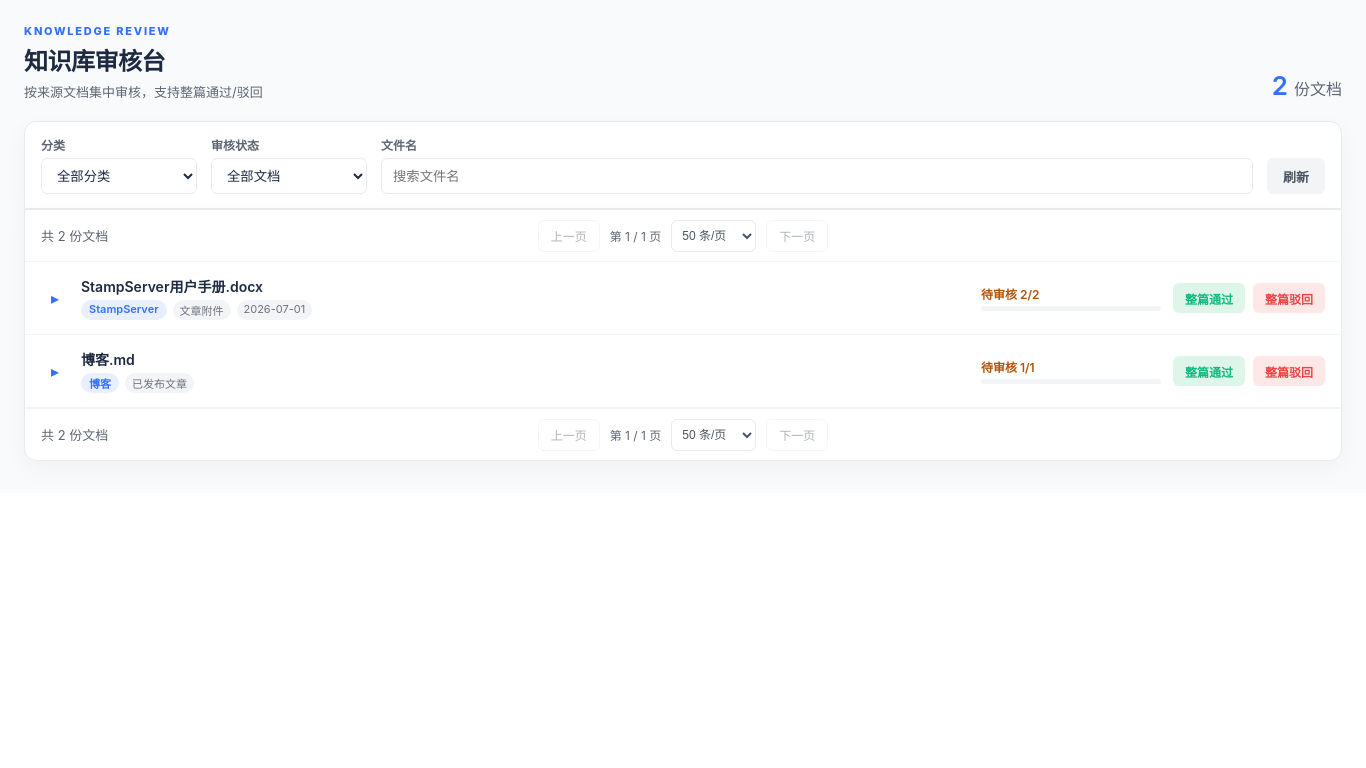
Test case: AdminChunksView › expands a document row and shows its chunks
// Click expand button on first doc row
Step 1. Click the element with class "doc-row" that starts with "StampServer用户手册.docx" → click(172, 286), box [51,278,1325,320]
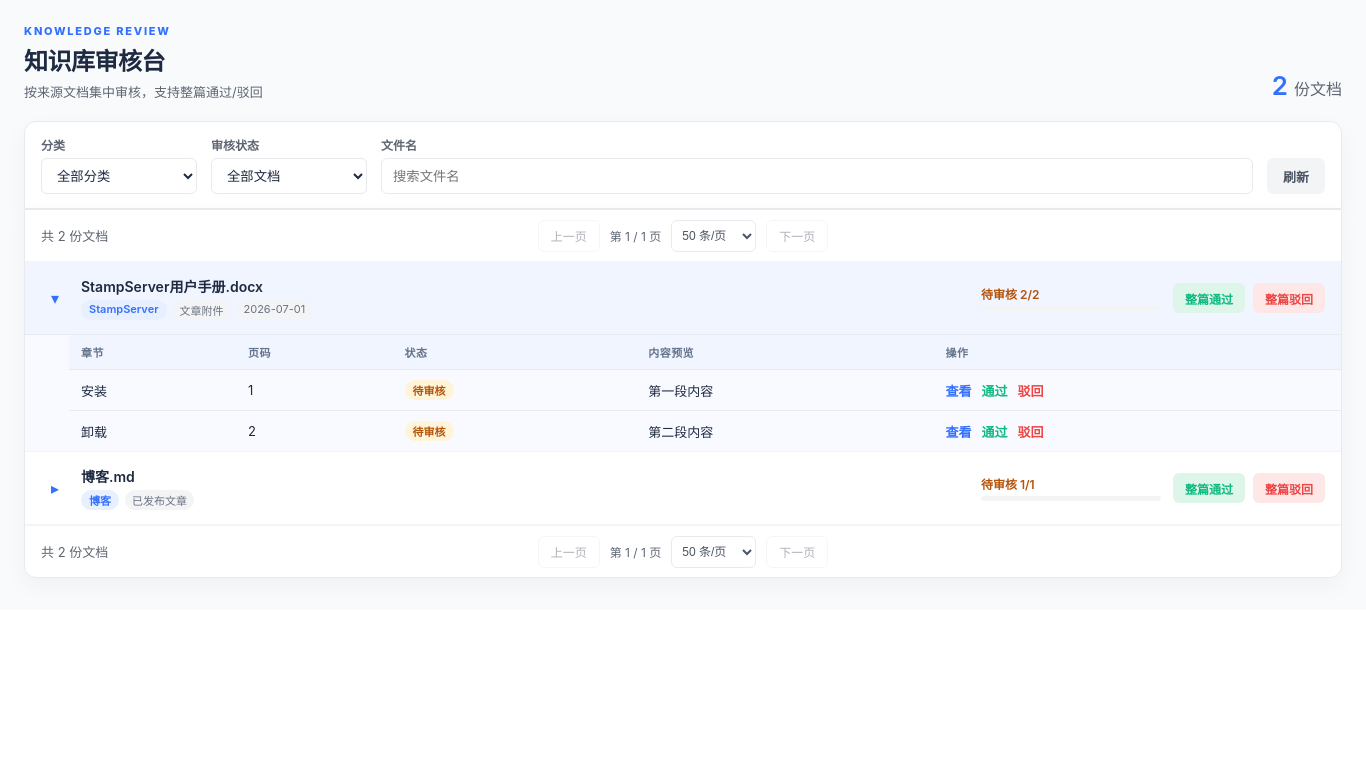
Now the text "第一段内容" is shown, box [636,370,934,410]
Now the text "第二段内容" is shown, box [636,410,934,451]
